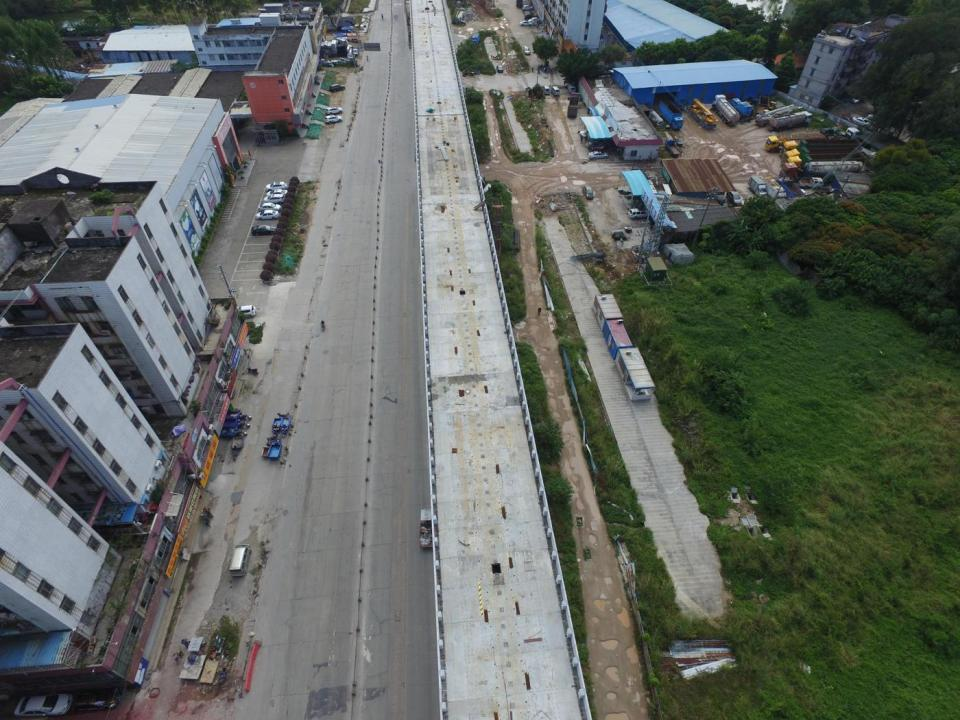car: (13, 695, 74, 716), (76, 689, 121, 711), (251, 225, 276, 235), (255, 210, 279, 219), (630, 208, 648, 220), (852, 115, 869, 127), (259, 202, 281, 211), (727, 190, 740, 205), (588, 151, 608, 159), (582, 186, 594, 199), (325, 115, 342, 124), (326, 106, 343, 115), (586, 140, 602, 149), (268, 188, 286, 195), (841, 115, 855, 124), (330, 84, 344, 92), (851, 95, 862, 105), (522, 45, 530, 56), (522, 5, 533, 11), (519, 21, 532, 26), (496, 64, 502, 72)
truck: (782, 145, 864, 164), (780, 139, 862, 157), (782, 154, 866, 169), (766, 136, 822, 152), (658, 102, 683, 130), (776, 176, 803, 200), (762, 175, 786, 201), (420, 509, 433, 549), (826, 127, 858, 142), (748, 176, 767, 198), (732, 98, 752, 118), (664, 139, 682, 157), (567, 93, 580, 117), (798, 177, 824, 189), (756, 95, 768, 113), (472, 33, 480, 45), (515, 0, 522, 8)
van: (231, 543, 251, 575), (230, 305, 255, 318), (263, 194, 285, 204), (265, 181, 287, 191), (566, 84, 576, 93), (528, 17, 540, 24), (552, 86, 560, 96), (542, 85, 550, 95)
